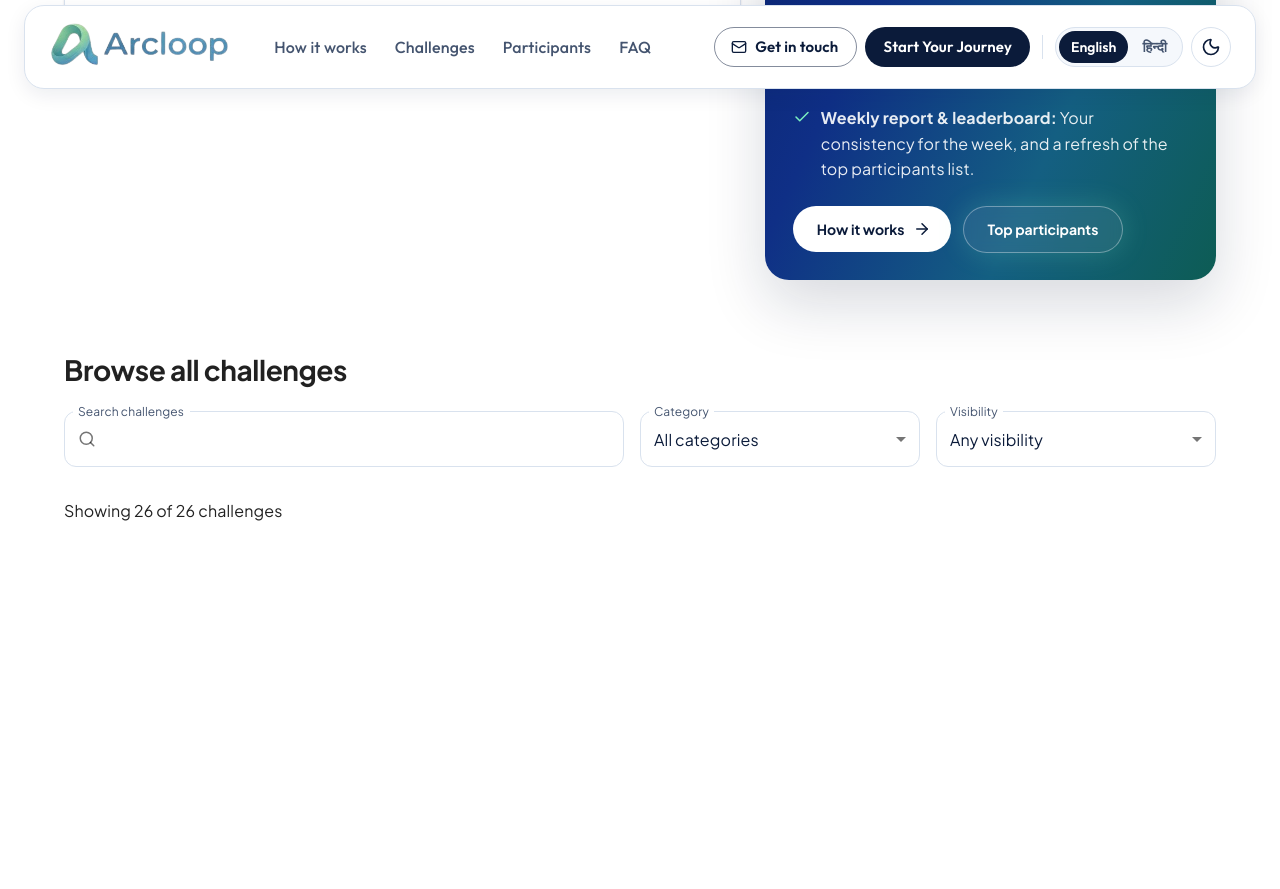
it: Explore challenges › filters by search text and shows an empty state with a clear action
This screenshot has width=1280, height=889.
(page scrolled)
Type "zzzz" into the search field labelled "Search challenges" at (364, 439), box [104,411,624,467]
(page scrolled)
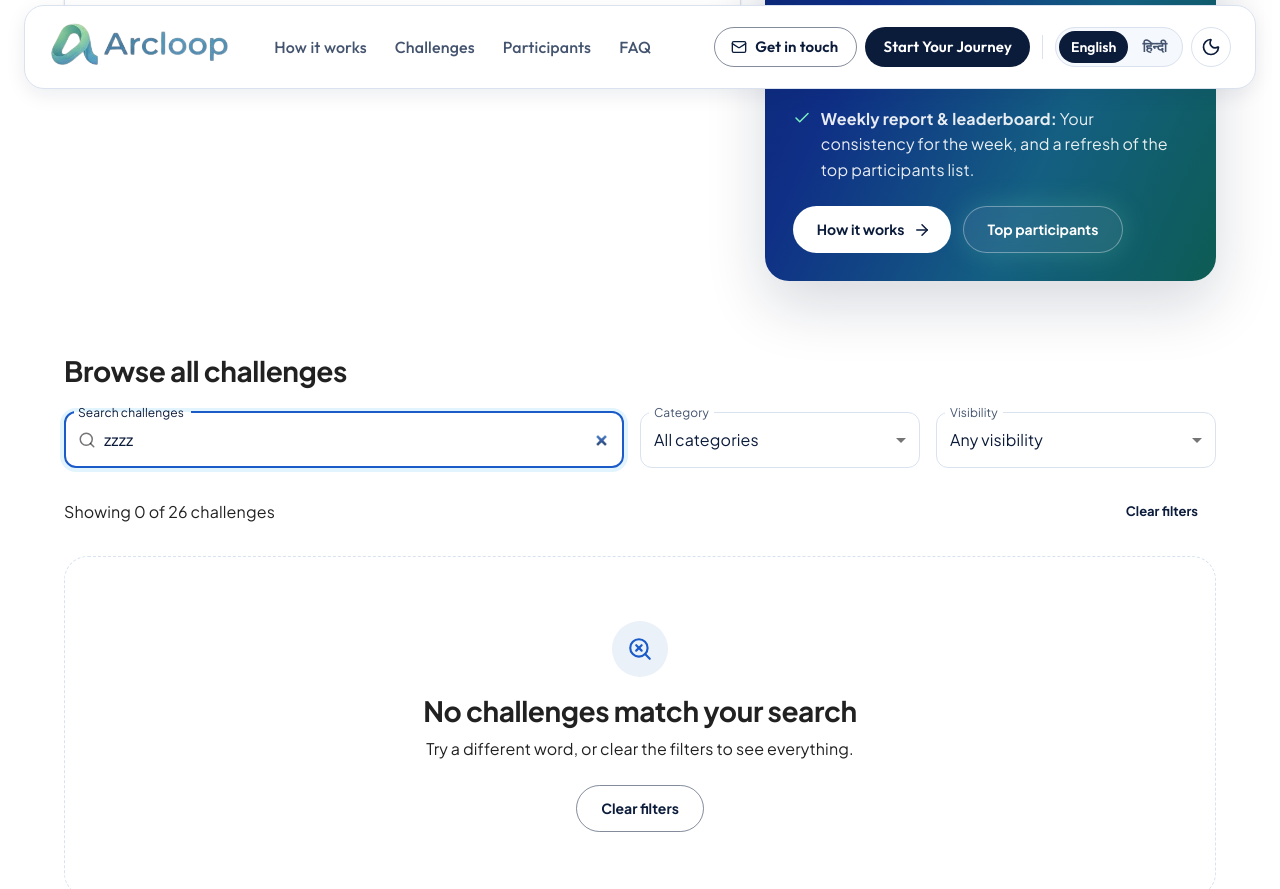
Now the heading "No challenges match your search" is shown, box [423,693,857,728]
Click the button "Clear filters" in the row of "Showing 0 of 26 challenges" at (1162, 512), box [1108,492,1216,532]
(page scrolled)
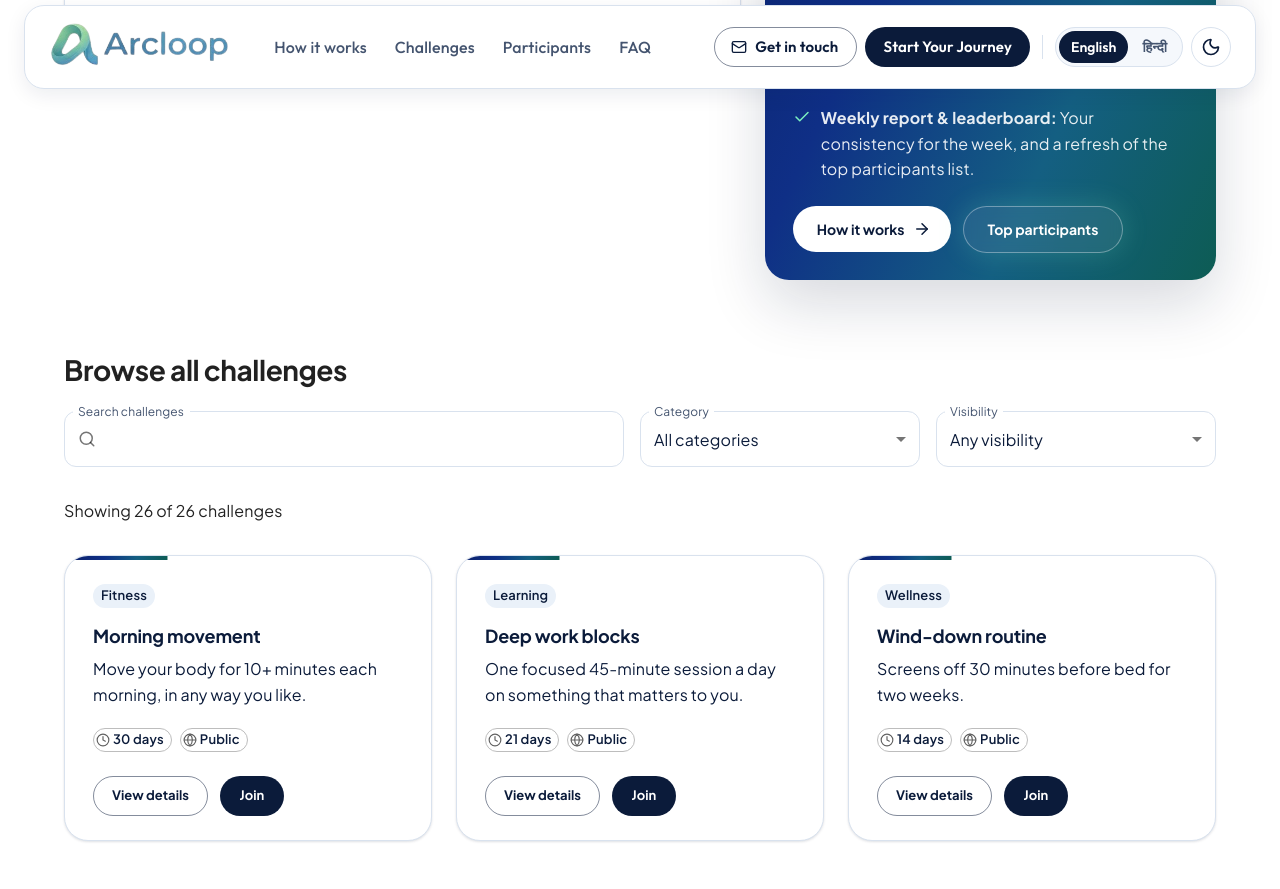
Now the heading "Morning movement" is shown, box [93,624,260,647]
